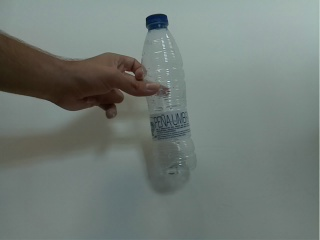botella plastico: (138, 12, 200, 182)
